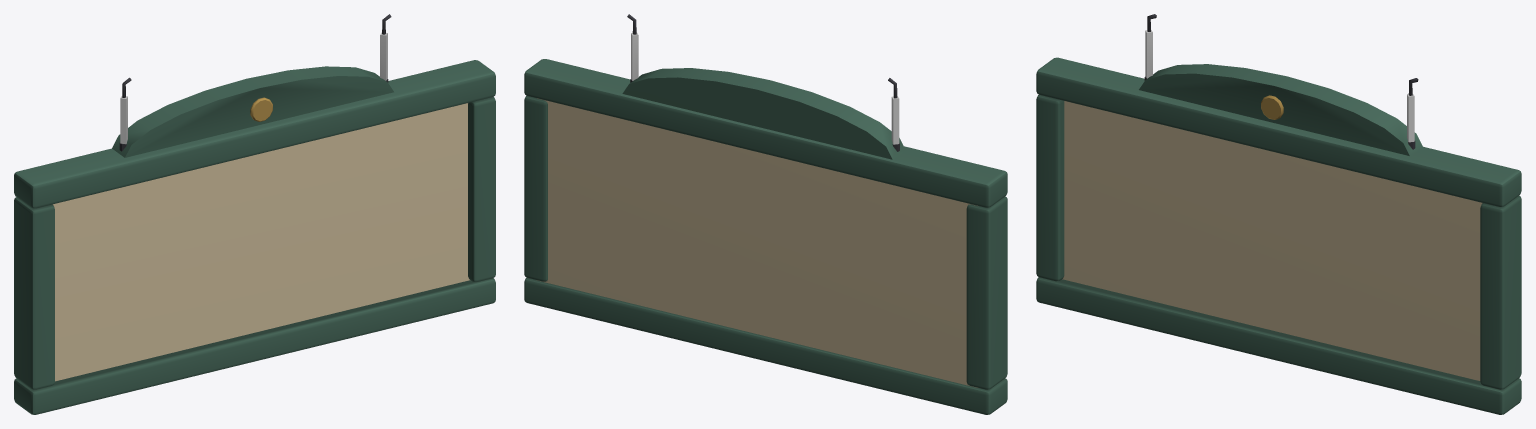
Rendered from SchoolSign.fbx.
The picture shows the model from 3 angles, left to right: view 1: azimuth 30°, elevation 25°; view 2: azimuth 150°, elevation 25°; view 3: azimuth 330°, elevation 25°; orthographic projection.
Parts seen in each view (by area): view 1: SchoolSign; view 2: SchoolSign; view 3: SchoolSign.
Part boxes in pixels (x1=…): SchoolSign: x1=14, y1=14, x2=495, y2=414; SchoolSign: x1=524, y1=14, x2=1007, y2=414; SchoolSign: x1=1036, y1=14, x2=1521, y2=414.
Bounding box in the file's own units: 1.45 × 0.9104 × 0.11.
